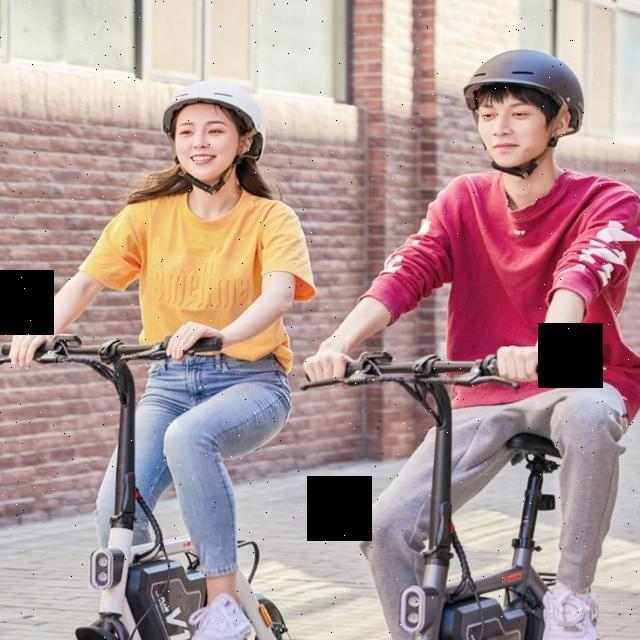helmet: (464, 48, 588, 184), (160, 82, 268, 194)
